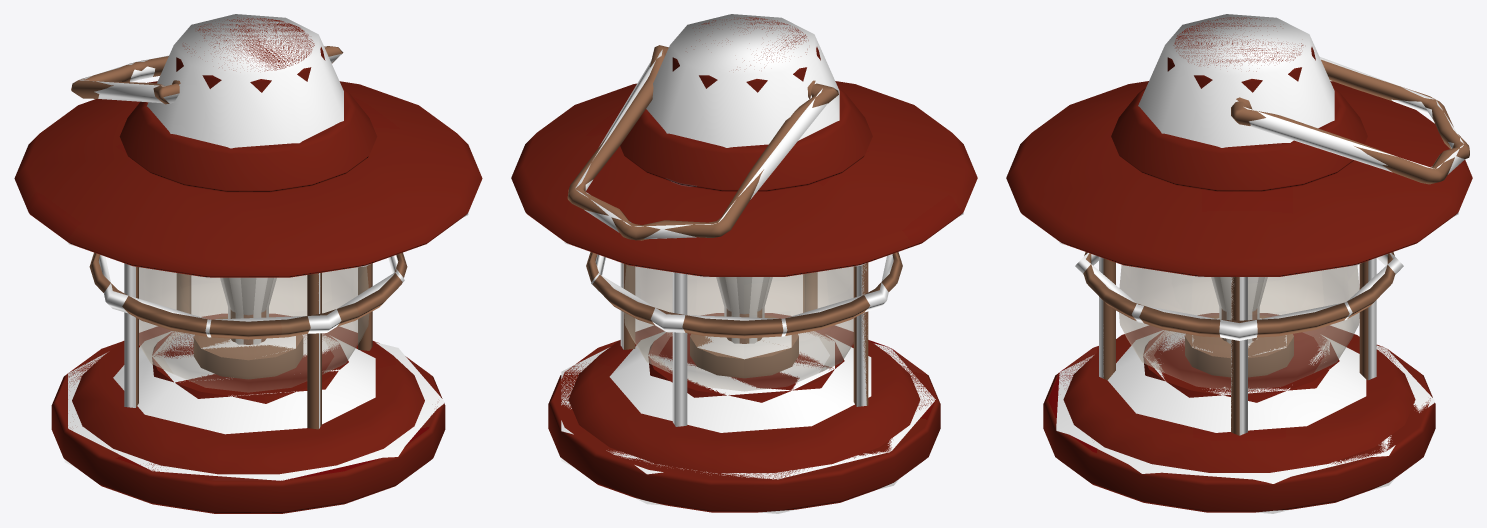
Rendered from objects_un_lantern01.gltf.
3 views of the same model, side by side, from view 1: azimuth 30°, elevation 25°; view 2: azimuth 150°, elevation 25°; view 3: azimuth 270°, elevation 25° (orthographic).
Parts seen in each view (by area): view 1: nomerge_objects_un_lantern01_mesh_lod0_shape:objects_un_lant (×2), shadow_model_shape:objects_un_lantern01_shadow_mat; view 2: nomerge_objects_un_lantern01_mesh_lod0_shape:objects_un_lant (×2), shadow_model_shape:objects_un_lantern01_shadow_mat; view 3: nomerge_objects_un_lantern01_mesh_lod0_shape:objects_un_lant (×2), shadow_model_shape:objects_un_lantern01_shadow_mat.
Part boxes in pixels (box(x1,y1,x2,y2)): nomerge_objects_un_lantern01_mesh_lod0_shape:objects_un_lant (×2): box(14, 17, 482, 513); shadow_model_shape:objects_un_lantern01_shadow_mat: box(14, 14, 468, 480); nomerge_objects_un_lantern01_mesh_lod0_shape:objects_un_lant (×2): box(511, 17, 977, 512); shadow_model_shape:objects_un_lantern01_shadow_mat: box(511, 14, 963, 513); nomerge_objects_un_lantern01_mesh_lod0_shape:objects_un_lant (×2): box(1006, 17, 1472, 512); shadow_model_shape:objects_un_lantern01_shadow_mat: box(1006, 14, 1464, 513).
Size of what is drawn, in the model's own units: 0.2838 by 0.2642 by 0.2881.
3 materials, 2 textured.
